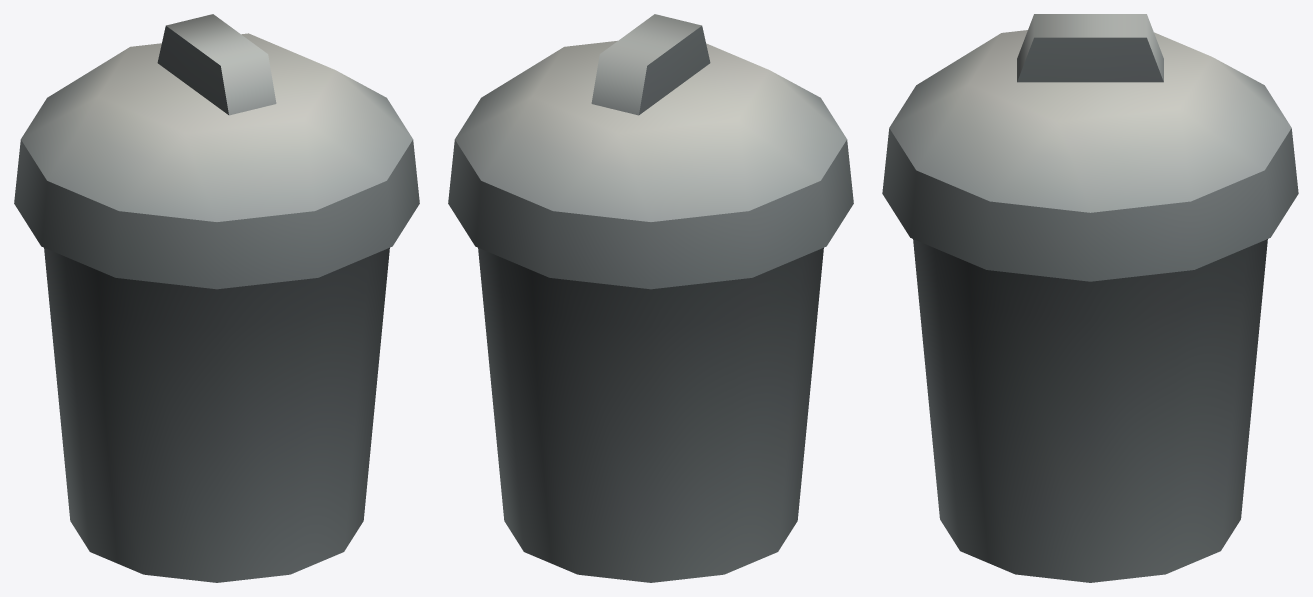
File: Trash_Can_1A.fbx
3 renders of one model, left to right at view 1: azimuth 30°, elevation 25°; view 2: azimuth 150°, elevation 25°; view 3: azimuth 270°, elevation 25°, orthographic. The views are drawn at different scales.
Visible parts, largest first — view 1: Trash_Can_1A; view 2: Trash_Can_1A; view 3: Trash_Can_1A.
Part boxes in pixels (x1,y1,x2,y2): Trash_Can_1A: (14, 14, 419, 582); Trash_Can_1A: (448, 14, 853, 582); Trash_Can_1A: (882, 14, 1298, 582).
Bounding box in the file's own units: 1.06 × 1.39 × 1.06.
